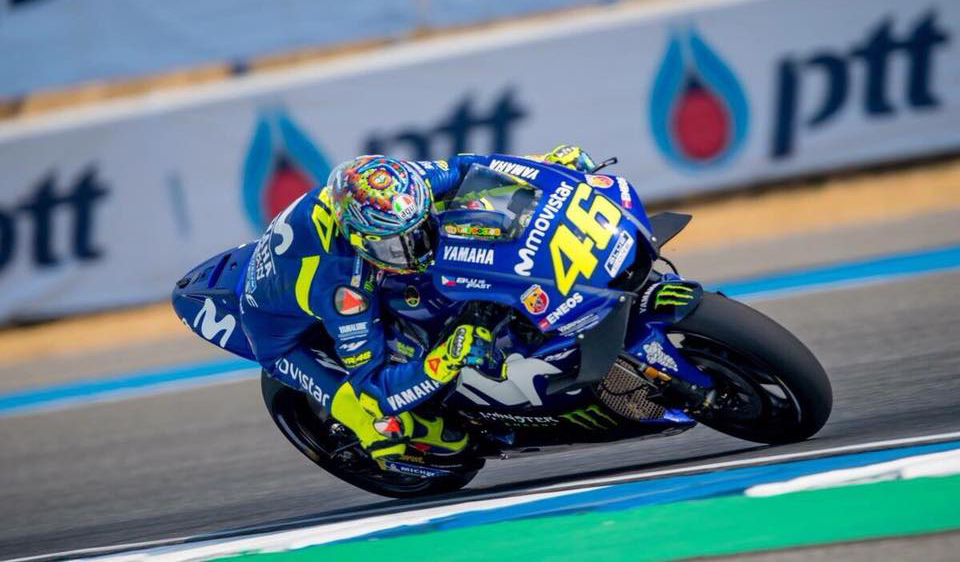helmet: (310, 150, 453, 277)
